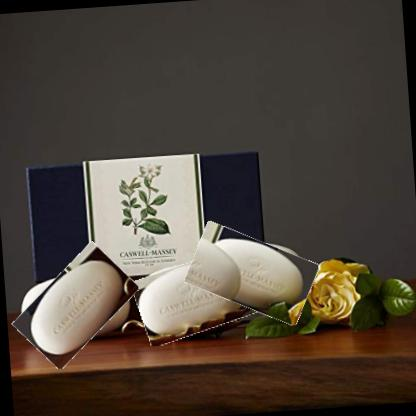soap: (11, 254, 140, 359), (184, 225, 318, 322), (132, 252, 256, 341)
